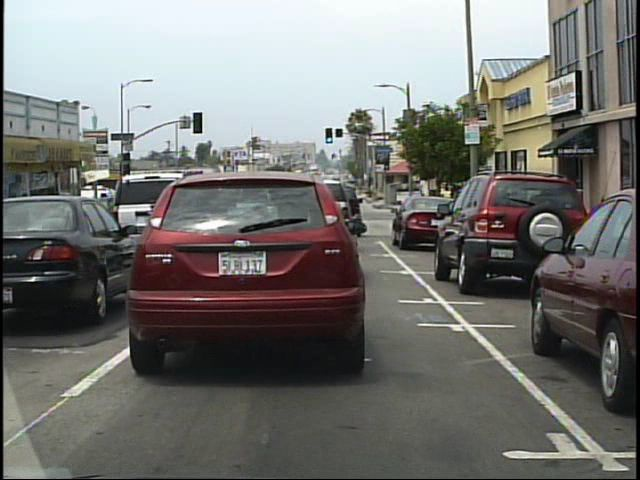person: (432, 189, 445, 224), (426, 191, 436, 225)
